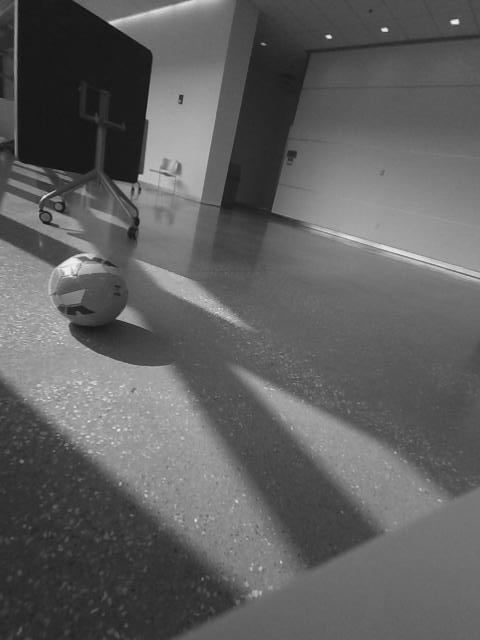ball: (49, 251, 131, 331)
